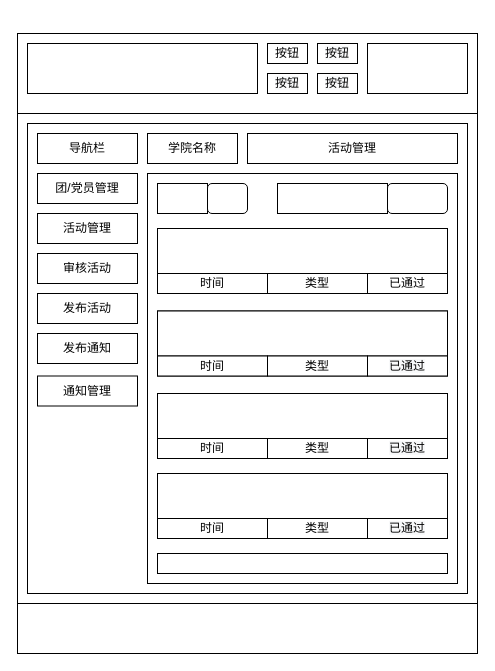
Some shapes in this 495 by 671 pixel diagram are drawn without their labels. The centre of each missing label's shape, as x and y in pixels:
分页页码: (302,563)
底部导航栏&联系发邮件: (247,628)
当前登录学生信息显示（跳转主页）: (417,68)
搜索: (417,198)
筛选: (227,198)
类型(选择框): (182,198)
网站标题（文字+图片）: (142,68)
